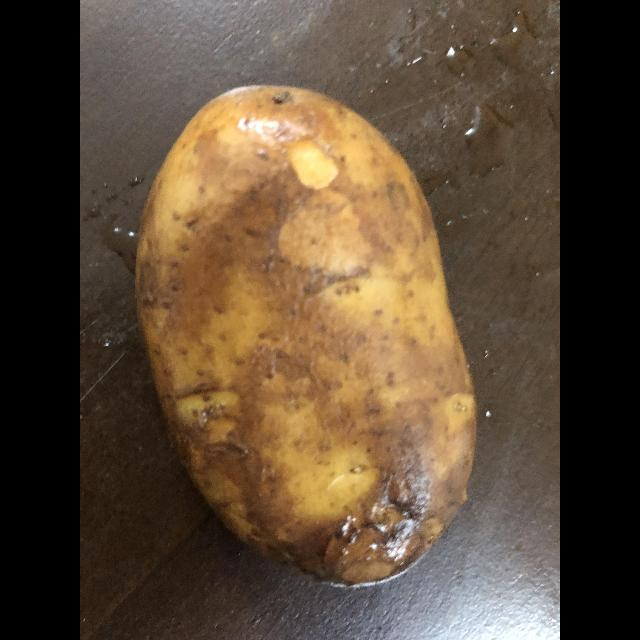Defected potato: (140, 88, 482, 594)
